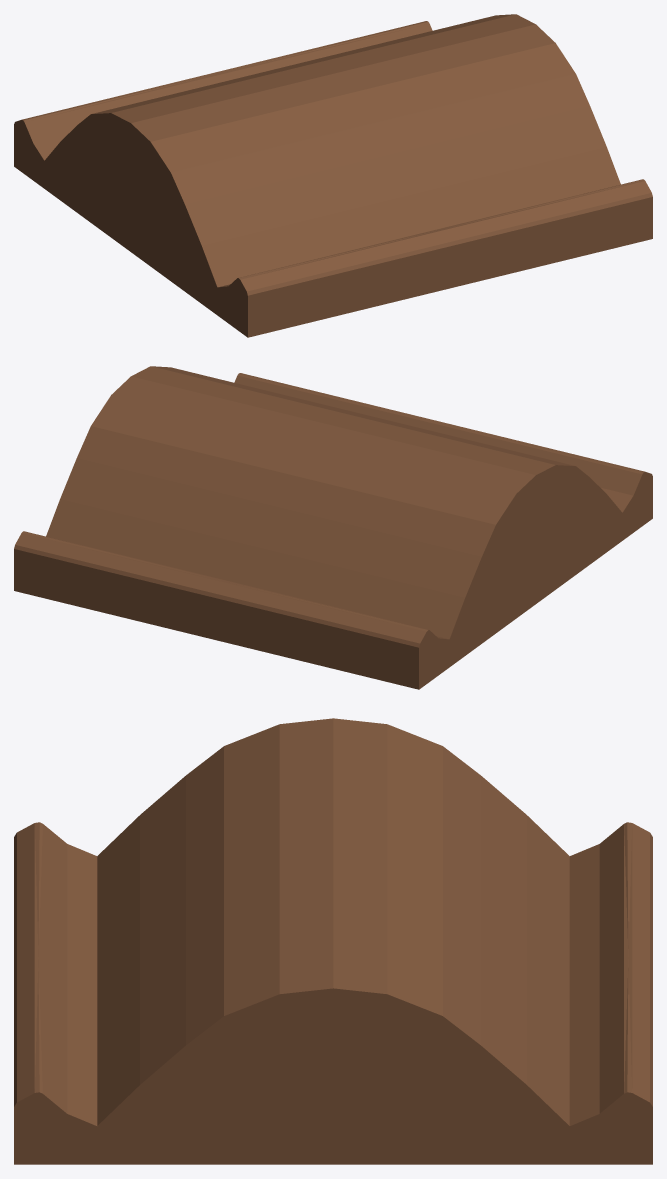
Rendered from 03_04_wall_deco_2_joins.glb.
3 views of the same model, one above another, from view 1: azimuth 30°, elevation 25°; view 2: azimuth 150°, elevation 25°; view 3: azimuth 270°, elevation 25° (orthographic). The views are drawn at different scales.
Visible parts, largest first — view 1: deco; view 2: deco; view 3: deco.
Boxes of the visible parts, x1=… form: deco: x1=14, y1=14, x2=652, y2=337; deco: x1=14, y1=366, x2=652, y2=689; deco: x1=14, y1=718, x2=652, y2=1164.
Size of the model in its own units: 0.75 by 0.2282 by 0.75.
